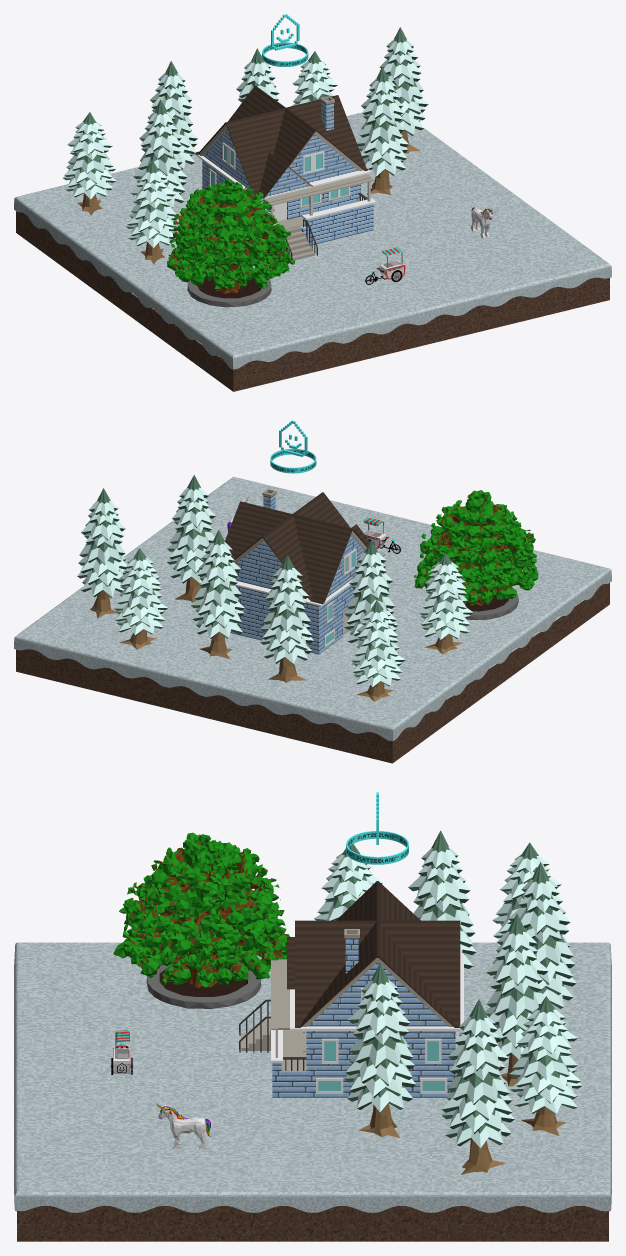
The picture shows the model from 3 angles, top to bottom: view 1: azimuth 30°, elevation 25°; view 2: azimuth 150°, elevation 25°; view 3: azimuth 270°, elevation 25°; orthographic projection. The views are drawn at different scales.
Visible parts, largest first — view 1: Cube.003, Cube.547, OBJRANDOM_CEIBA, TYPE_PREMIUM, VEHICLES_SNOWBAL_BIKE; view 2: Cube.003, Cube.547, OBJRANDOM_CEIBA, TYPE_PREMIUM, VEHICLES_SNOWBAL_BIKE; view 3: Cube.003, Cube.547, OBJRANDOM_CEIBA, TYPE_PREMIUM, ANIMAL_UNICORNIO, VEHICLES_SNOWBAL_BIKE.
Part boxes in pixels (box(x1,y1,x2,y2)): Cube.003: box(14, 27, 611, 391); Cube.547: box(194, 85, 376, 260); OBJRANDOM_CEIBA: box(167, 178, 294, 307); TYPE_PREMIUM: box(262, 14, 308, 66); VEHICLES_SNOWBAL_BIKE: box(365, 247, 405, 284); Cube.003: box(14, 475, 611, 763); Cube.547: box(225, 489, 388, 654); OBJRANDOM_CEIBA: box(413, 490, 538, 619); TYPE_PREMIUM: box(270, 420, 316, 473); VEHICLES_SNOWBAL_BIKE: box(363, 517, 400, 553); Cube.003: box(14, 830, 611, 1241); Cube.547: box(239, 881, 463, 1097); OBJRANDOM_CEIBA: box(113, 832, 289, 1008); TYPE_PREMIUM: box(346, 792, 408, 864); ANIMAL_UNICORNIO: box(156, 1103, 211, 1150); VEHICLES_SNOWBAL_BIKE: box(110, 1030, 133, 1074).
Size of the model in its own units: 4040 by 2467 by 4040.
40 materials, 5 textured.
